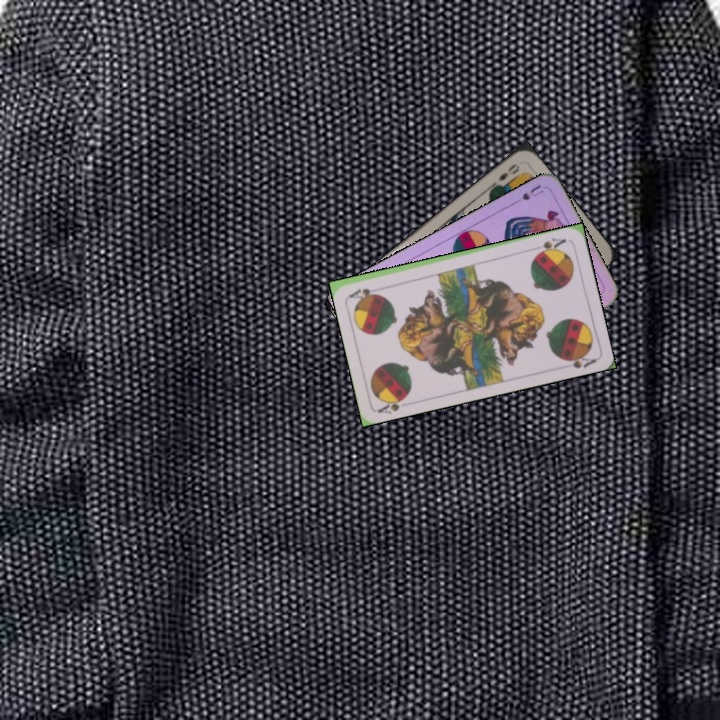EO: (489, 159, 522, 189)
SA: (374, 391, 414, 416), (531, 234, 569, 257)
SU: (508, 181, 546, 208)
